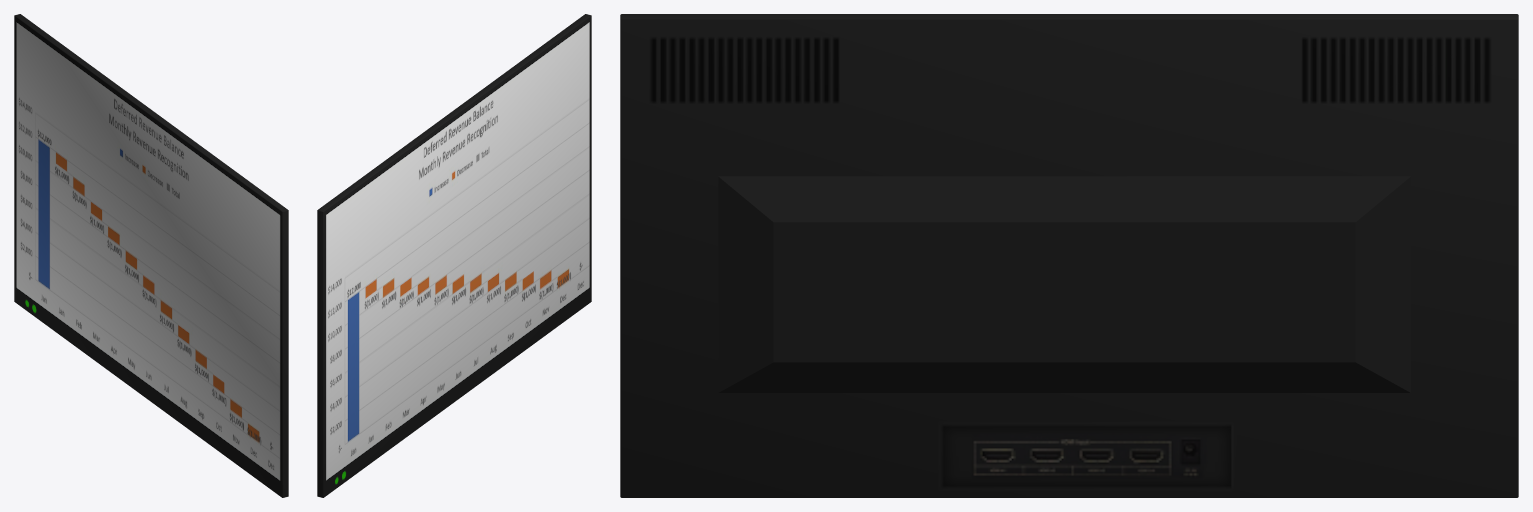
The model's file is monitor1.FBX.
3 renders of one model, left to right at view 1: azimuth 30°, elevation 25°; view 2: azimuth 150°, elevation 25°; view 3: azimuth 270°, elevation 25°, orthographic. The views are drawn at different scales.
Visible parts, largest first — view 1: monitor1; view 2: monitor1; view 3: monitor1.
Part boxes in pixels (x1,y1,x2,y2): monitor1: (14,14,288,497); monitor1: (317,14,591,497); monitor1: (620,14,1518,497).
Size of the model in its own units: 2.24 by 65.29 by 38.45.
1 material, 1 textured.
